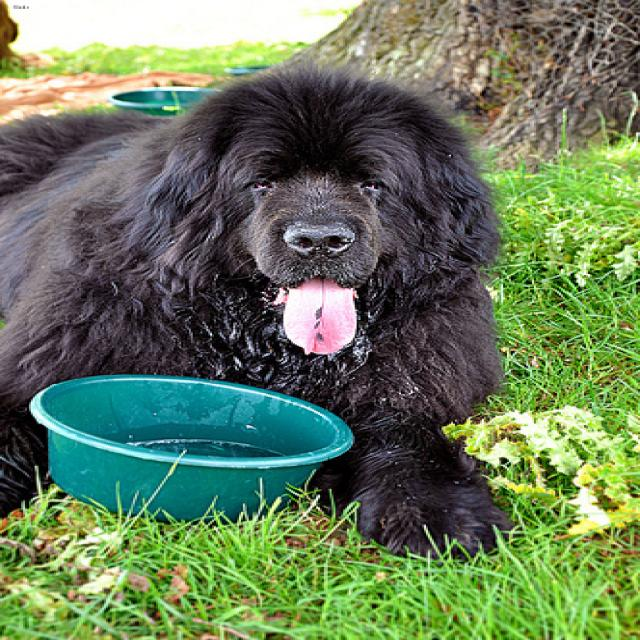dog-newfoundland: (2, 58, 528, 572)
